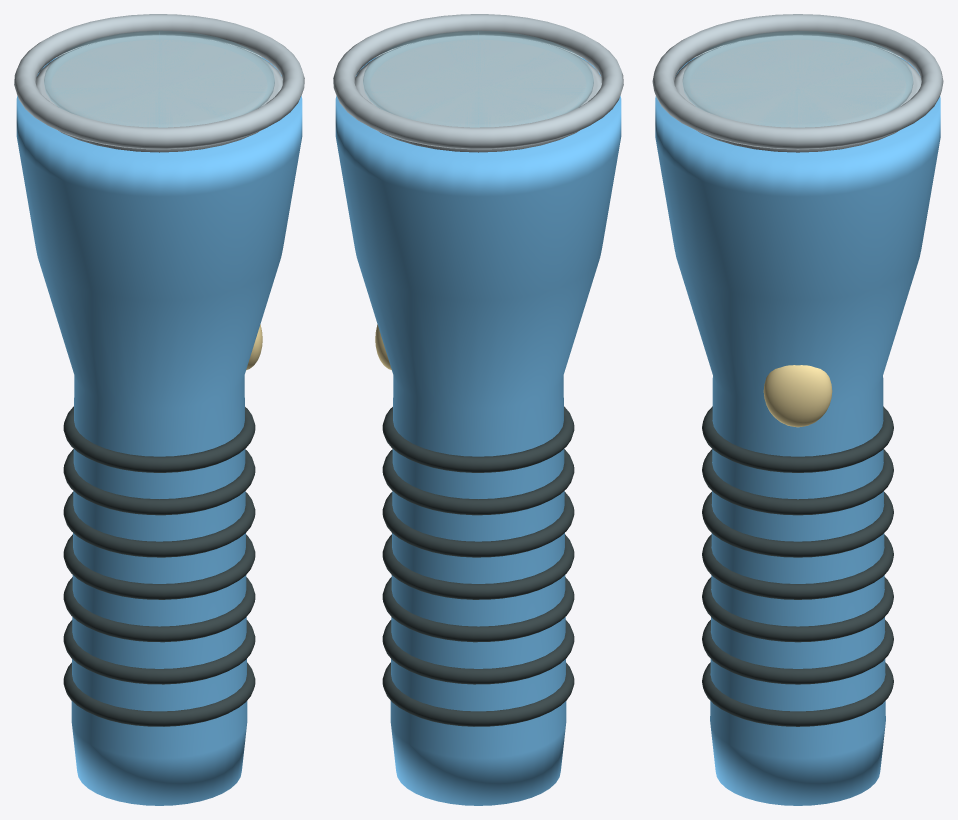
Rendered from field_flashlight.glb.
3 views of the same model, side by side, from view 1: azimuth 30°, elevation 25°; view 2: azimuth 150°, elevation 25°; view 3: azimuth 270°, elevation 25° (orthographic).
Parts seen in each view (by area): view 1: Flashlight_Housing, Reflector, Lens, Bezel, Grip_Ring_7, Grip_Ring_6, Grip_Ring_5, Grip_Ring_4, Grip_Ring_3, Grip_Ring_2, Grip_Ring; view 2: Flashlight_Housing, Reflector, Lens, Bezel, Grip_Ring_7, Grip_Ring_6, Grip_Ring_5, Grip_Ring_4, Grip_Ring_3, Grip_Ring_2, Grip_Ring; view 3: Flashlight_Housing, Reflector, Lens, Bezel, Grip_Ring_7, Grip_Ring_6, Grip_Ring_5, Grip_Ring_4, Grip_Ring_3, Switch, Grip_Ring_2, Grip_Ring.
Part boxes in pixels (left/top/right/bottom): Flashlight_Housing: left=16, top=57, right=302, bottom=805; Reflector: left=36, top=35, right=282, bottom=152; Lens: left=44, top=30, right=274, bottom=127; Bezel: left=14, top=14, right=304, bottom=149; Grip_Ring_7: left=63, top=406, right=255, bottom=472; Grip_Ring_6: left=63, top=449, right=255, bottom=515; Grip_Ring_5: left=63, top=492, right=255, bottom=557; Grip_Ring_4: left=63, top=534, right=255, bottom=599; Grip_Ring_3: left=63, top=577, right=255, bottom=642; Grip_Ring_2: left=63, top=620, right=255, bottom=684; Grip_Ring: left=63, top=662, right=255, bottom=726; Flashlight_Housing: left=335, top=57, right=621, bottom=805; Reflector: left=355, top=35, right=601, bottom=152; Lens: left=363, top=30, right=593, bottom=127; Bezel: left=333, top=14, right=623, bottom=149; Grip_Ring_7: left=382, top=406, right=574, bottom=472; Grip_Ring_6: left=382, top=449, right=574, bottom=515; Grip_Ring_5: left=382, top=492, right=574, bottom=557; Grip_Ring_4: left=382, top=534, right=574, bottom=599; Grip_Ring_3: left=382, top=577, right=574, bottom=642; Grip_Ring_2: left=382, top=620, right=574, bottom=684; Grip_Ring: left=382, top=662, right=574, bottom=726; Flashlight_Housing: left=655, top=57, right=940, bottom=805; Reflector: left=674, top=35, right=921, bottom=152; Lens: left=683, top=31, right=912, bottom=127; Bezel: left=652, top=14, right=943, bottom=149; Grip_Ring_7: left=702, top=406, right=893, bottom=472; Grip_Ring_6: left=702, top=449, right=893, bottom=515; Grip_Ring_5: left=702, top=492, right=893, bottom=557; Grip_Ring_4: left=702, top=534, right=893, bottom=599; Grip_Ring_3: left=702, top=577, right=893, bottom=642; Switch: left=763, top=365, right=832, bottom=427; Grip_Ring_2: left=702, top=620, right=893, bottom=684; Grip_Ring: left=702, top=662, right=893, bottom=726.
Bounding box in the file's own units: 0.106 × 0.2808 × 0.106.
